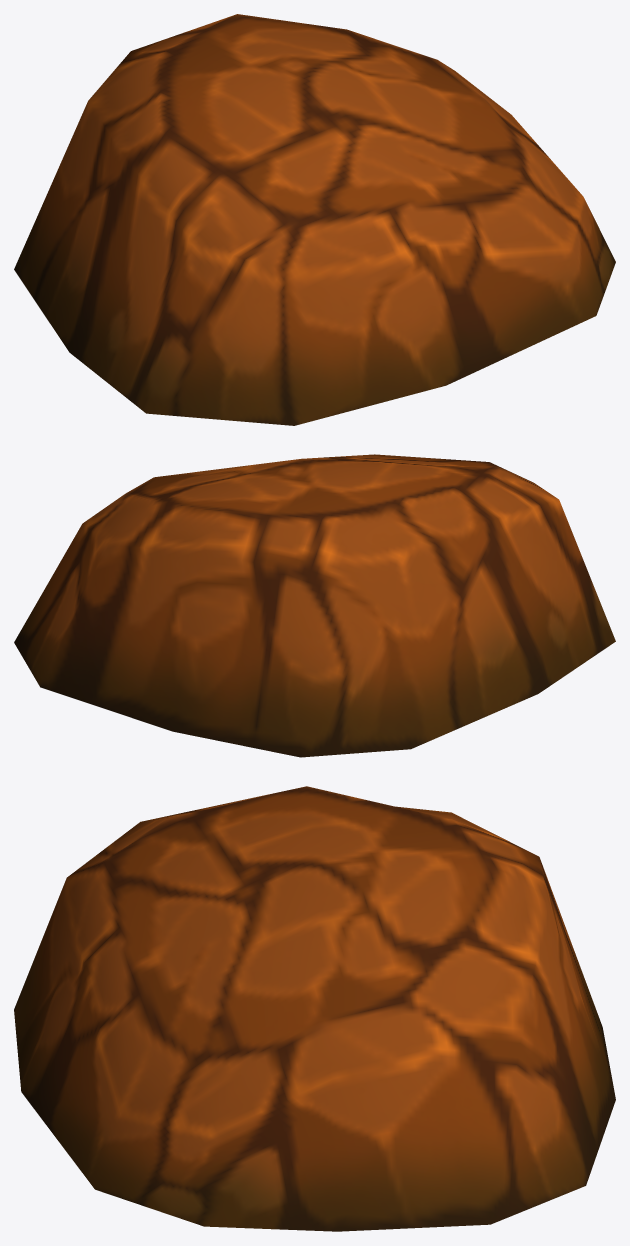
Rendered from Rock_02.FBX.
3 views of the same model, one above another, from view 1: azimuth 30°, elevation 25°; view 2: azimuth 150°, elevation 25°; view 3: azimuth 270°, elevation 25° (orthographic). The views are drawn at different scales.
Parts seen in each view (by area): view 1: Rock_02; view 2: Rock_02; view 3: Rock_02.
Part boxes in pixels (left/top/right/bottom): Rock_02: left=14, top=14, right=615, bottom=425; Rock_02: left=14, top=454, right=615, bottom=757; Rock_02: left=14, top=786, right=615, bottom=1231.
Bounding box in the file's own units: 223 × 85.15 × 207.
